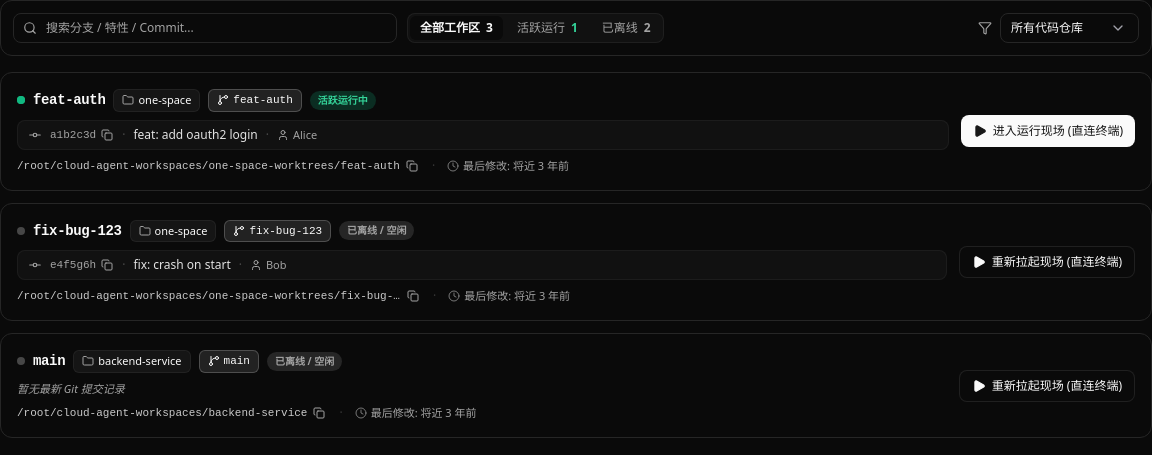
Scenario: WorktreesHistoryTab Component › filters worktrees by search query
Type "crash" into the field with placeholder "搜索分支 / 特性 / Commit..." at (205, 28), box 13,13 -> 397,43
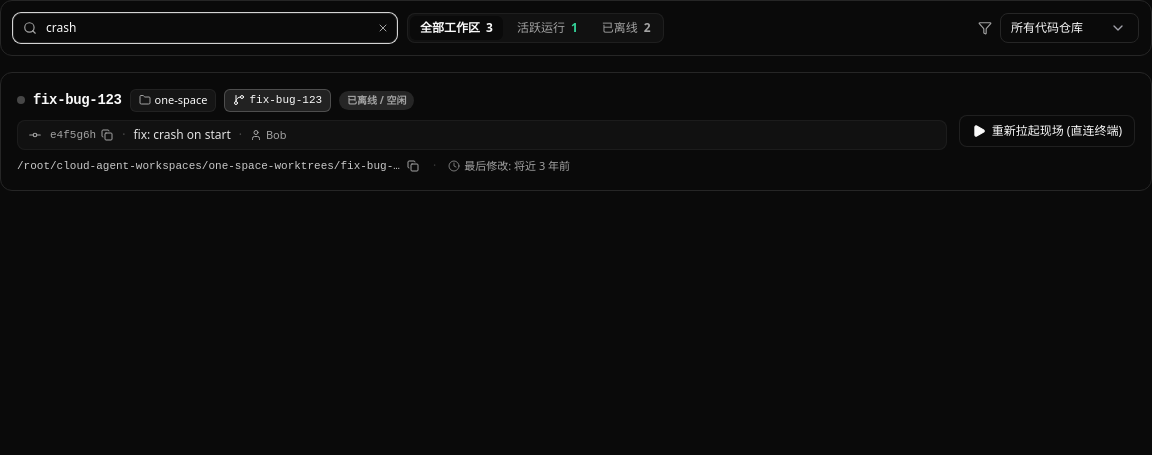
Expected: the text "fix: crash on start" is shown, 133,126 -> 231,142
Expected: the text "feat: add oauth2 login" is gone
